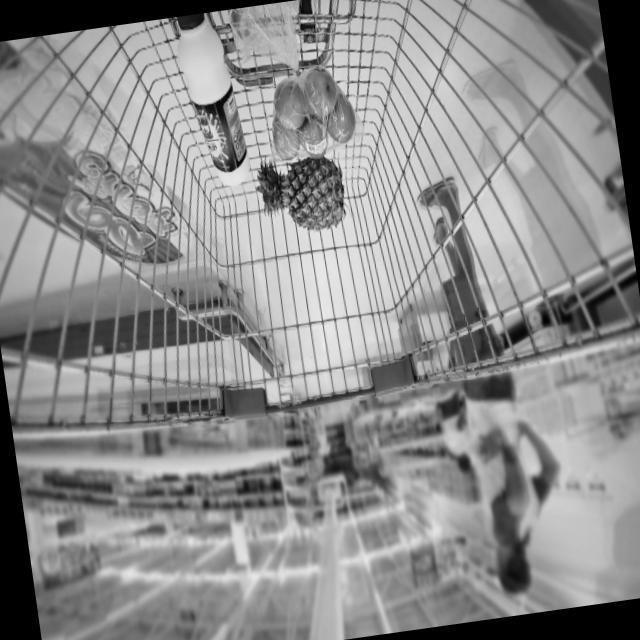apple: (262, 64, 362, 164)
milk: (168, 9, 255, 190)
pineapple: (250, 152, 350, 240)
